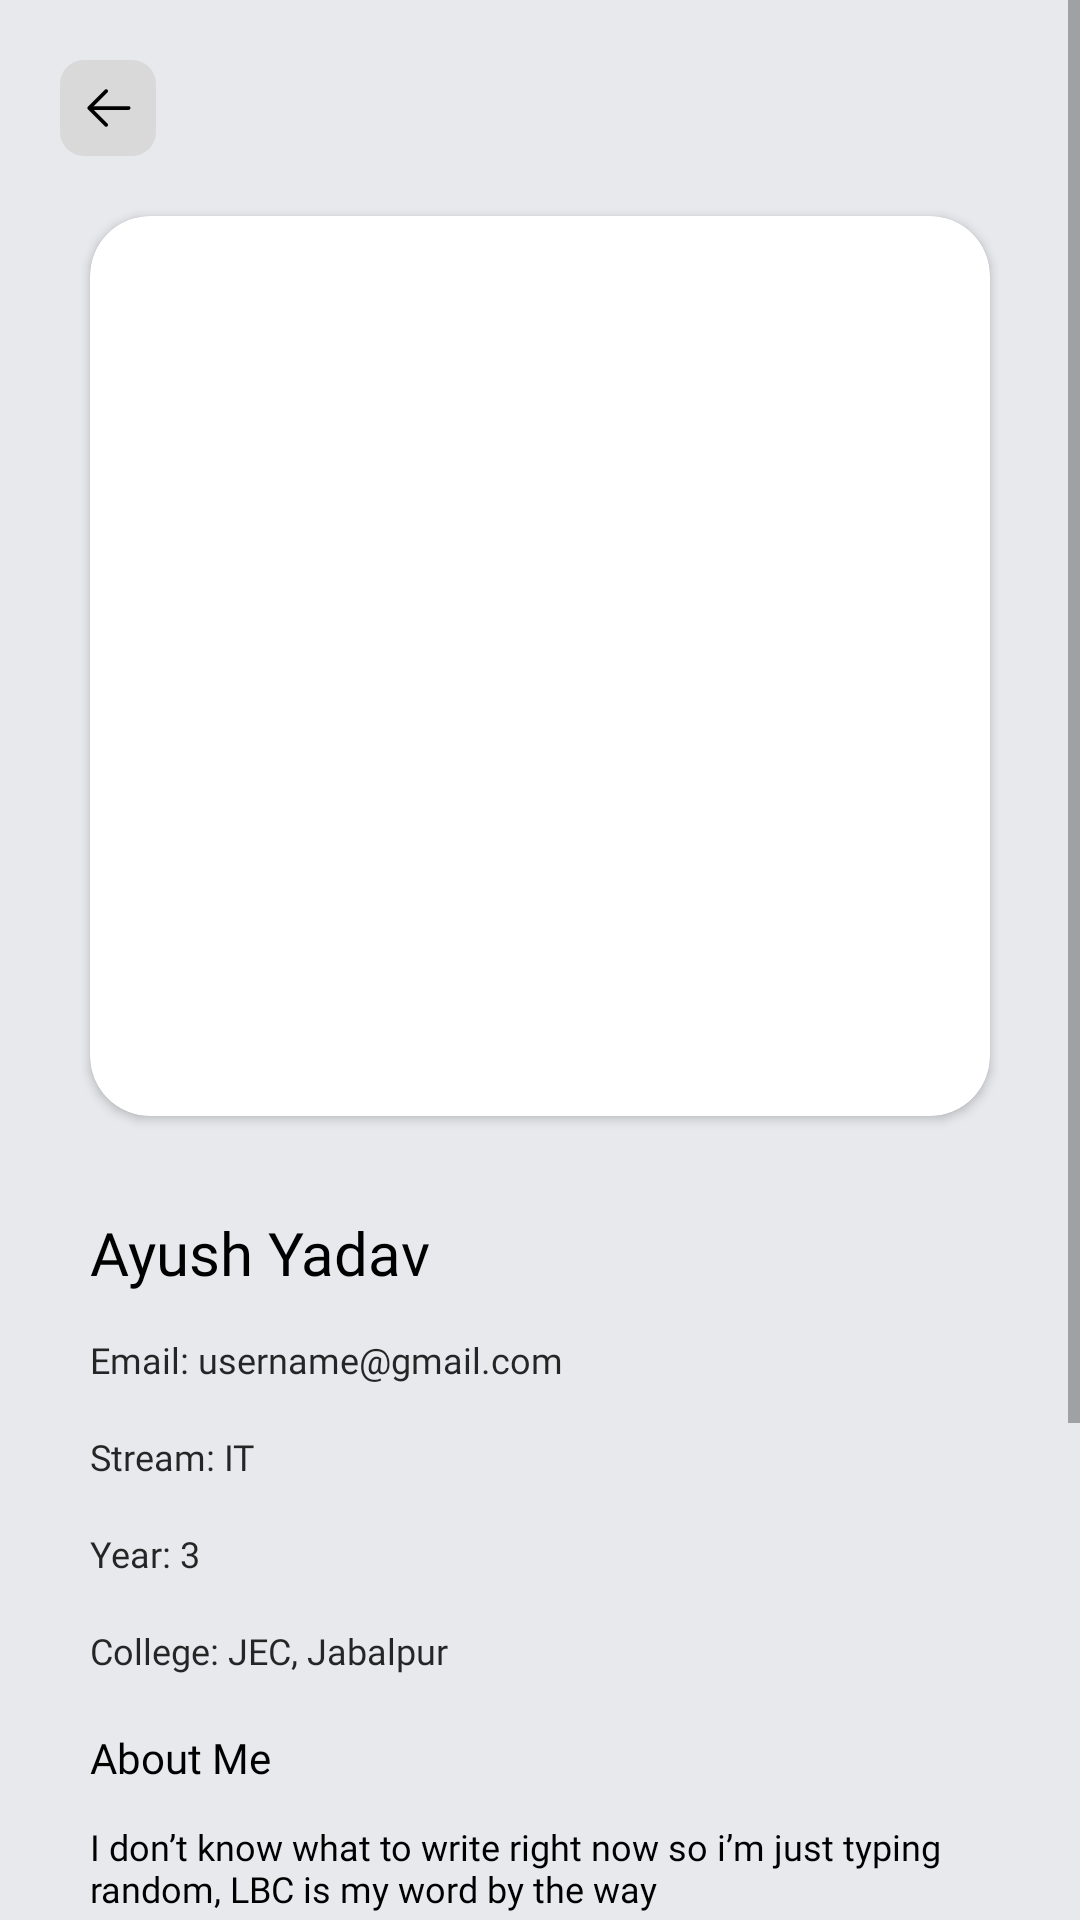

Screen size 1080*1920. Icon name, then its box in pixels as detection(x1, y1, x2, y2):
back: detection(60, 60, 156, 156)
